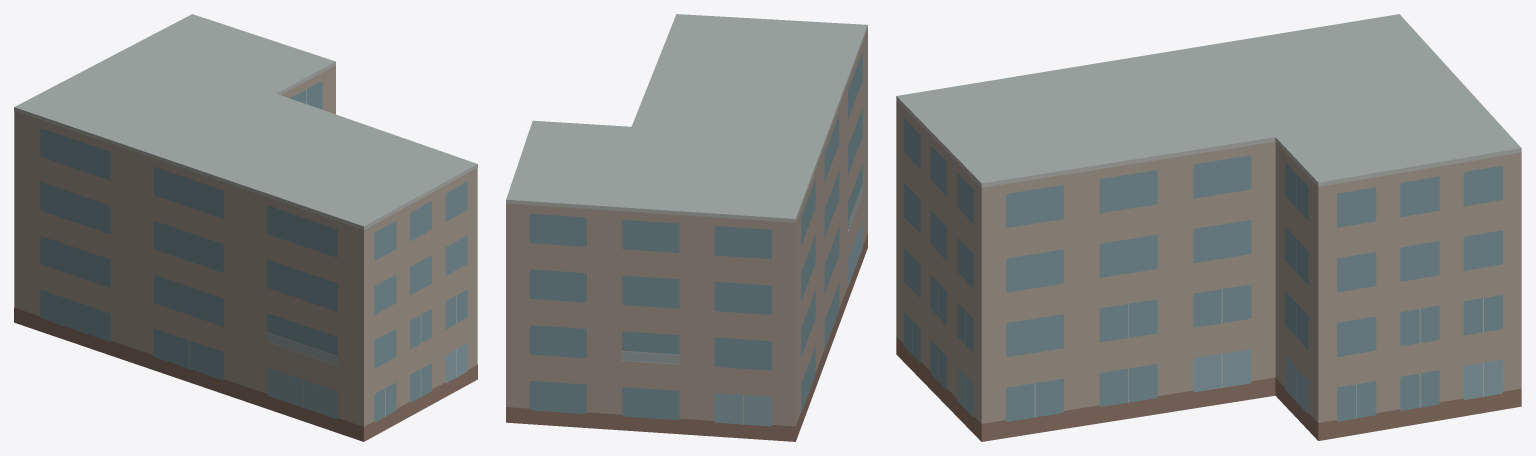
File: survey-upis-32837661.glb
The picture shows the model from 3 angles, left to right: view 1: azimuth 30°, elevation 25°; view 2: azimuth 150°, elevation 25°; view 3: azimuth 270°, elevation 25°; orthographic projection. The views are drawn at different scales.
Parts seen in each view (by area): view 1: survey-upis-32837661.tmp; view 2: survey-upis-32837661.tmp; view 3: survey-upis-32837661.tmp.
Part boxes in pixels (bbox=[...]): survey-upis-32837661.tmp: bbox=[14, 14, 477, 441]; survey-upis-32837661.tmp: bbox=[506, 14, 867, 441]; survey-upis-32837661.tmp: bbox=[896, 14, 1521, 441].
Size of the model in its own units: 20.14 by 14.32 by 31.4.
